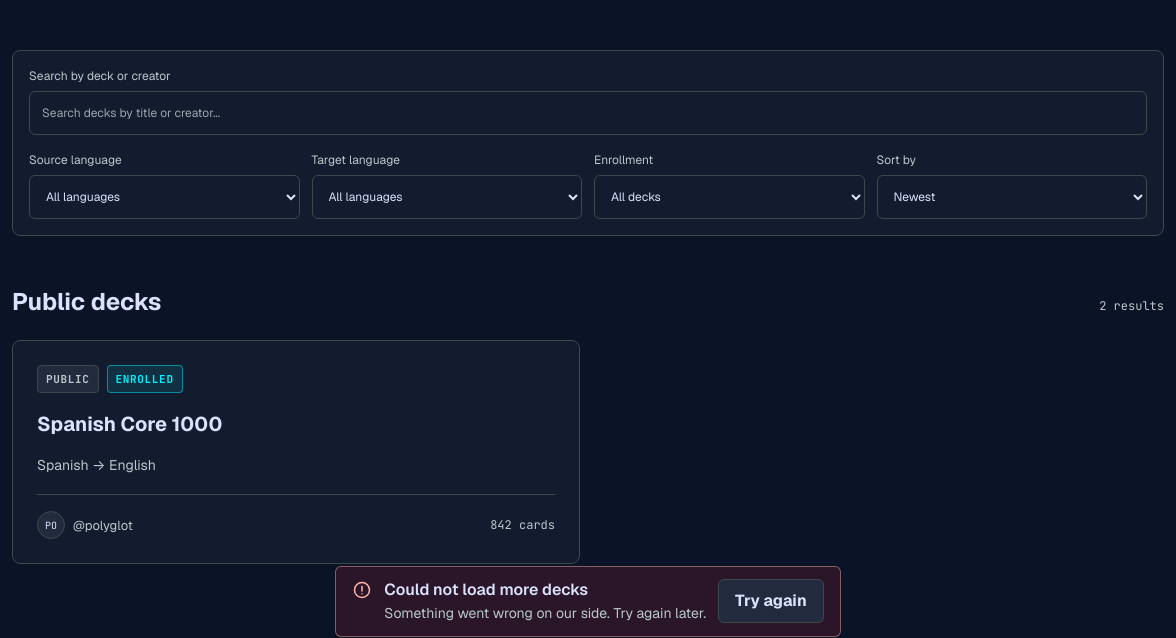
Test case: DiscoverPage › distinguishes a next-page failure and retries that page
The image size is (1176, 638).
(page scrolled)
Expected: the heading "Spanish Core 1000" is shown, [37,411,222,437]
Expected: the text "Could not load more decks" is shown, [384,579,588,600]
Click the button "Try again".
click(771, 601)  # box [718,579,824,623]
(page scrolled)
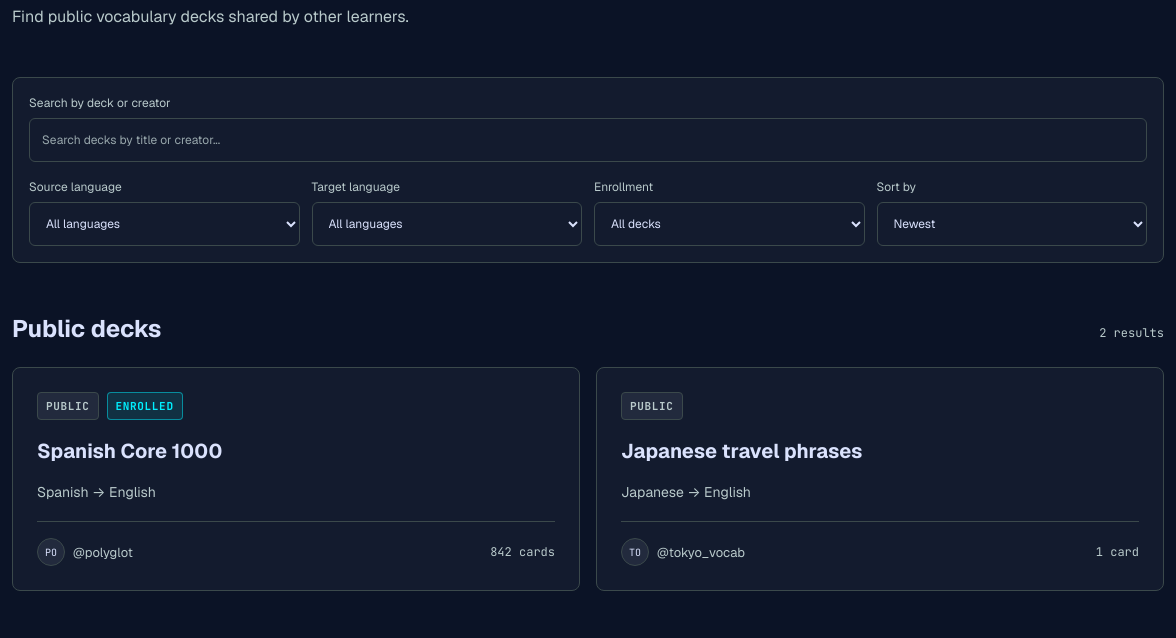
Expected: the heading "Japanese travel phrases" is shown, [621,438,862,464]
